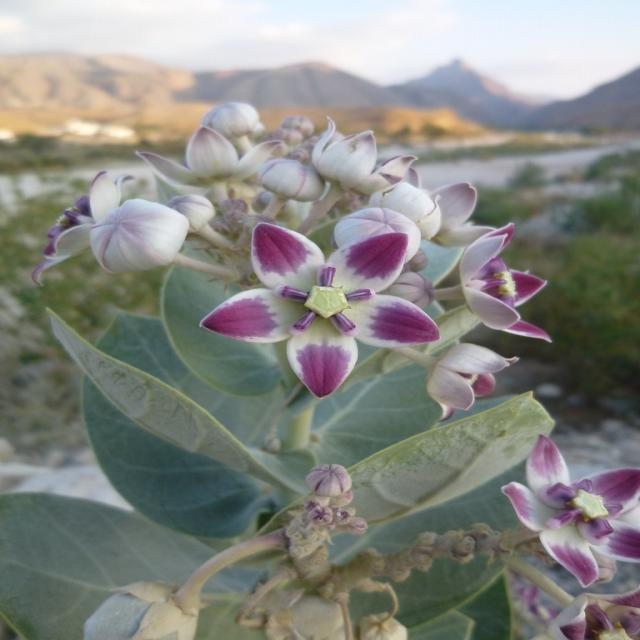Poisonous-Calatropis: (33, 96, 640, 640)
